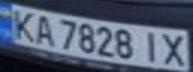2: (93, 24, 118, 57)
7: (54, 17, 78, 51)
8: (112, 26, 139, 61), (75, 20, 96, 55)
A: (30, 12, 60, 46)
I: (136, 28, 163, 64)
K: (3, 7, 42, 42)
X: (157, 30, 190, 68)
